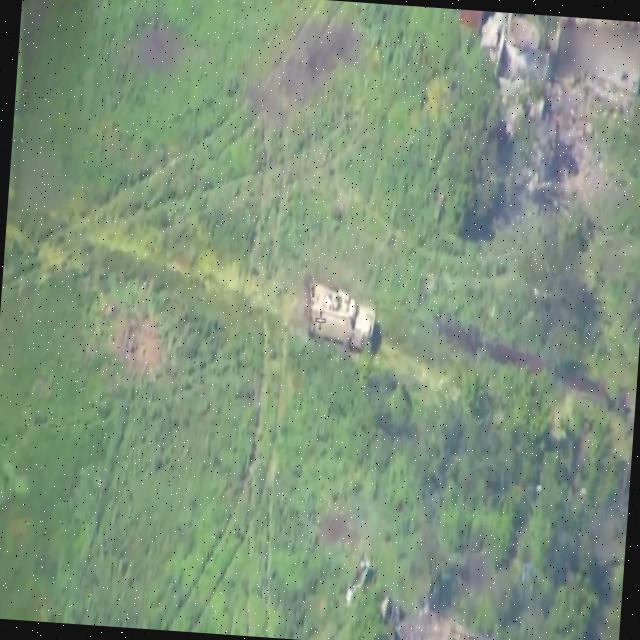Vehicle: (305, 284, 380, 355)
